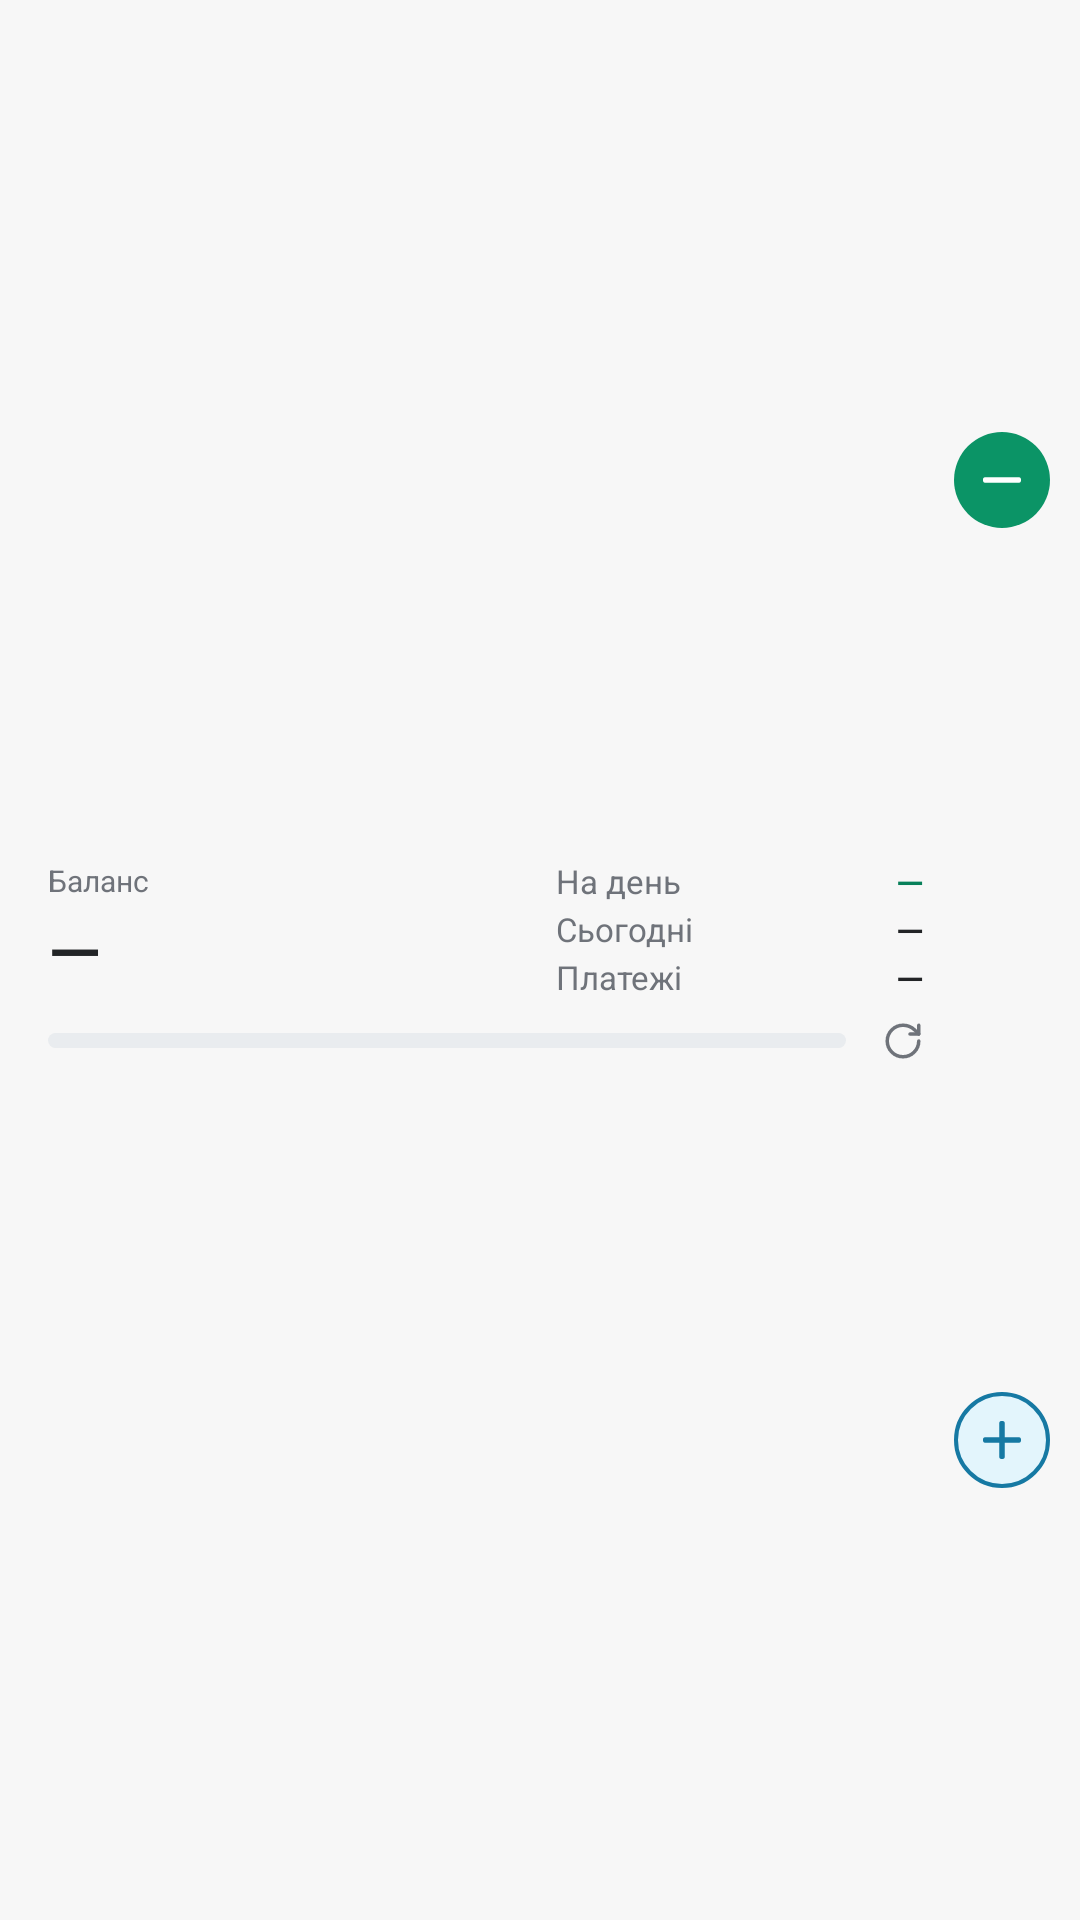

Named icons in this screenshot (1080w x 1920h) and their centers, (x=x, y=y):
Витрата: (x=1002, y=480)
Дохід: (x=1002, y=1440)
Оновити: (x=903, y=1041)
